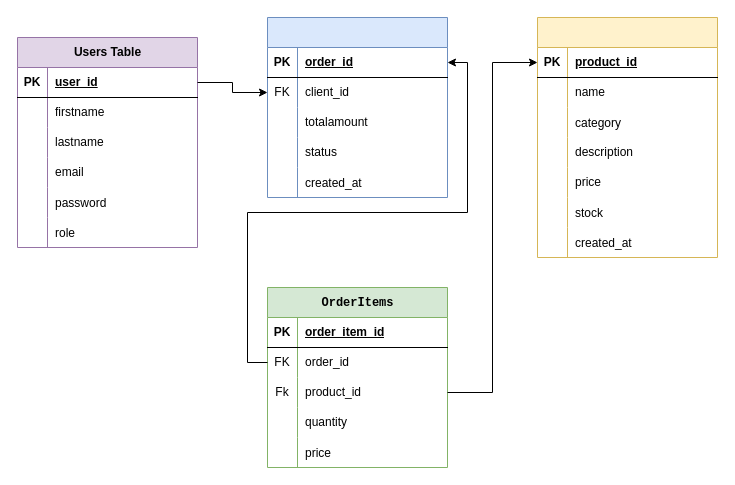
Image size: 735x485. Some labels were removed from this diagram. Here are the shapes that lost their labels. From the top down, the box of each, then its label:
(266, 16, 448, 198): Orders Table
(536, 16, 718, 258): Products Table
